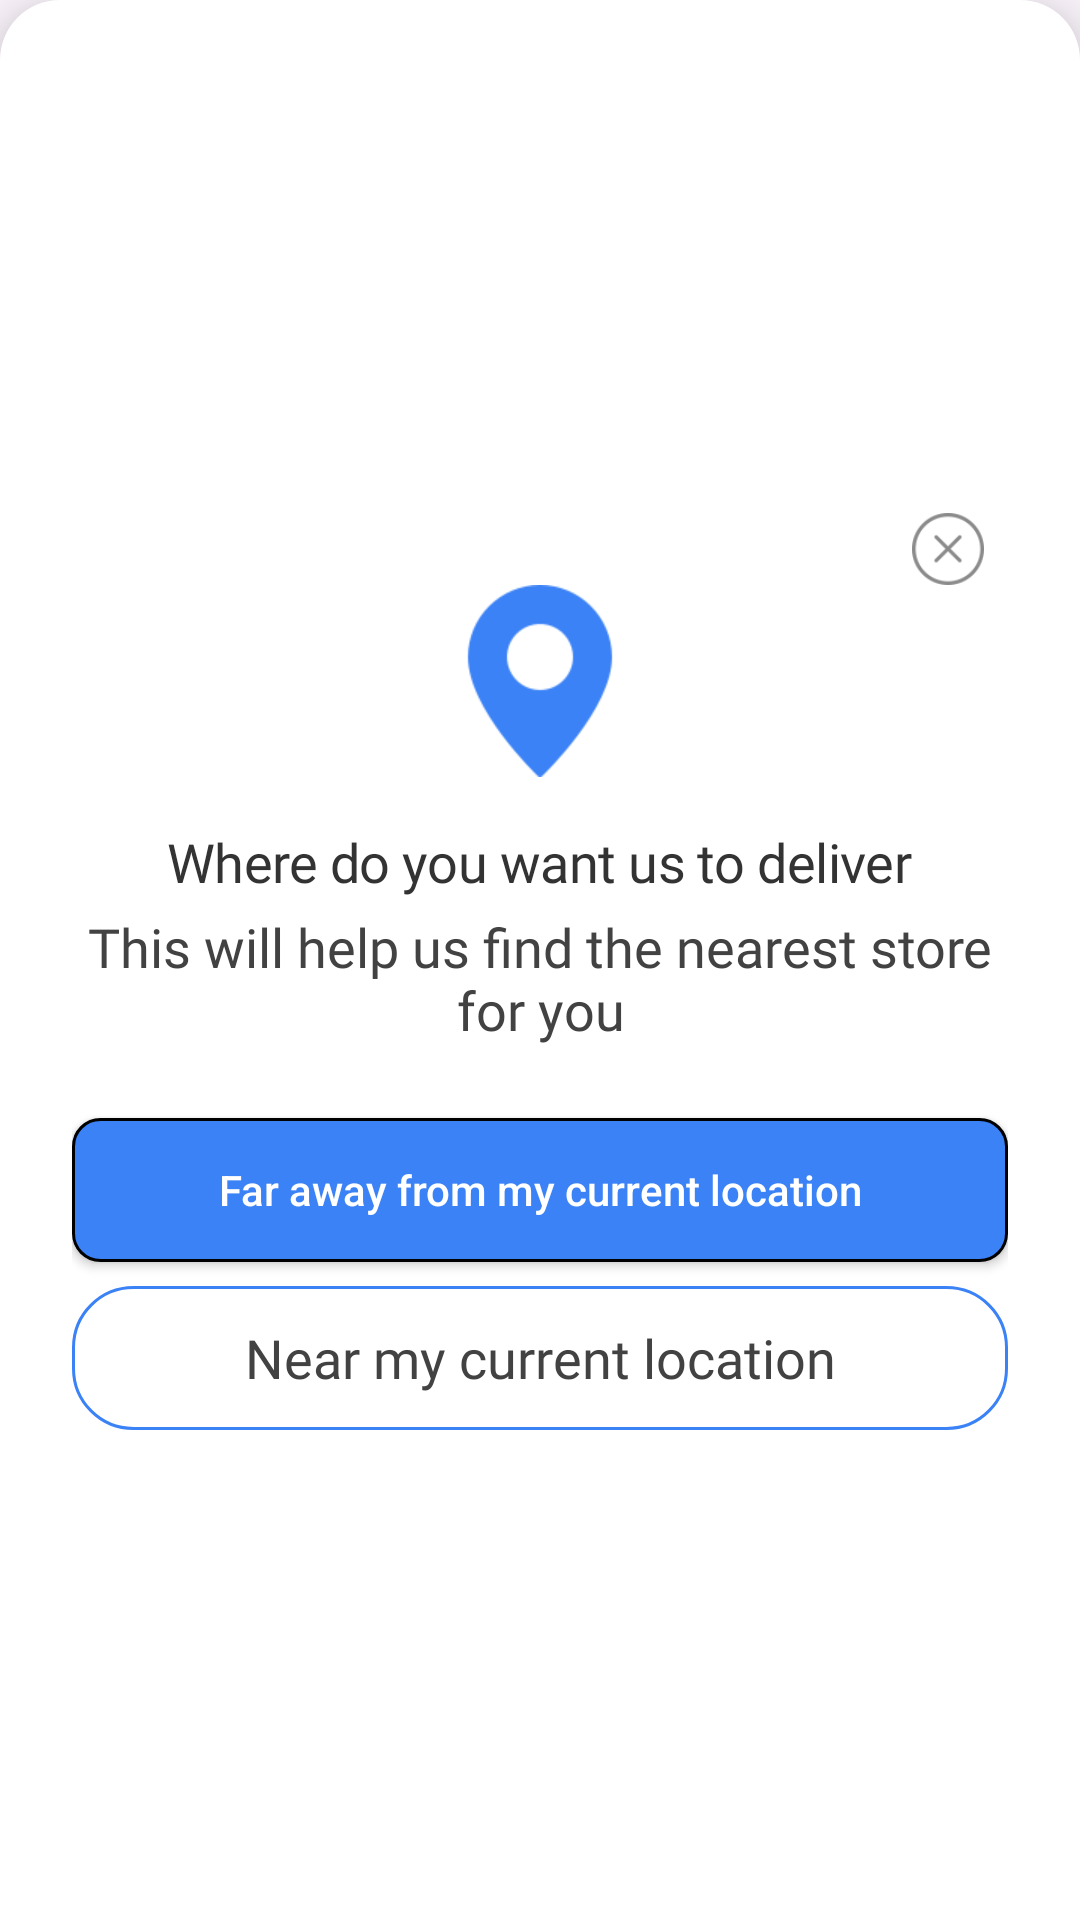

Point at icon controls on the screen. Image size 1080px×1920px, points as point (x, y).
close: point (948, 549)
maps: point (540, 681)
